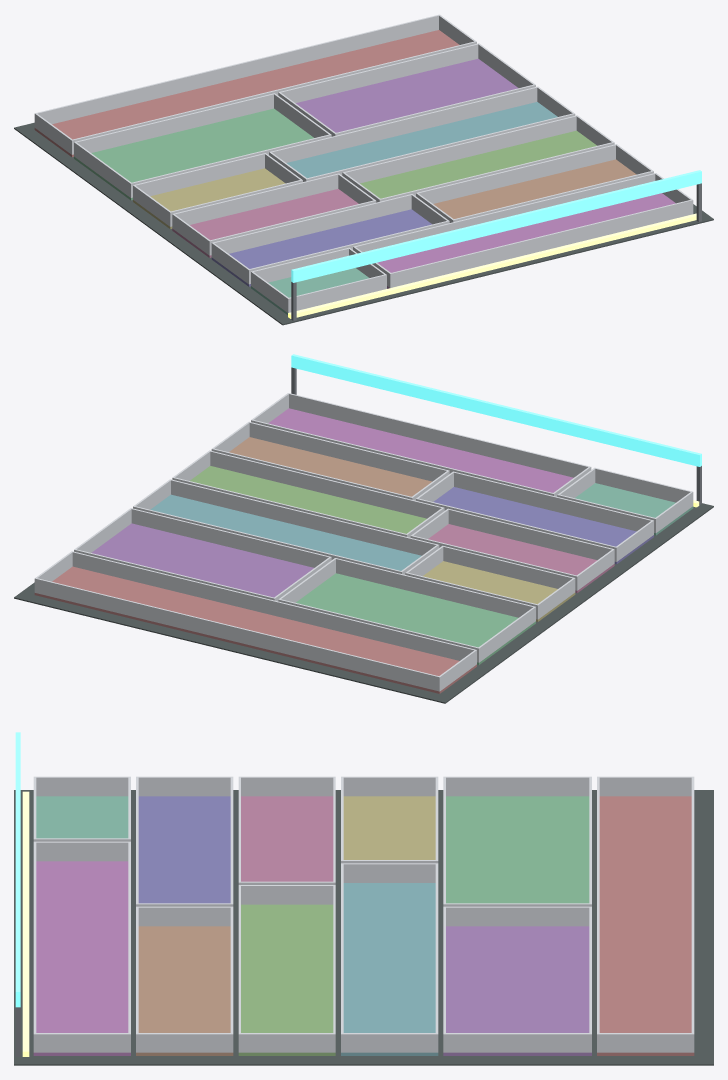
Rendered from hall-cleanroom.glb.
3 renders of one model, top to bottom at view 1: azimuth 30°, elevation 25°; view 2: azimuth 150°, elevation 25°; view 3: azimuth 270°, elevation 25°, orthographic. The views are drawn at different scales.
Visible parts, largest first — view 1: Cleanroom Trades; view 2: Cleanroom Trades; view 3: Cleanroom Trades.
Boxes of the visible parts, x1=… form: Cleanroom Trades: x1=14, y1=14, x2=713, y2=325; Cleanroom Trades: x1=14, y1=354, x2=713, y2=703; Cleanroom Trades: x1=14, y1=732, x2=713, y2=1065.
Size of the model in its own units: 38 by 4.3 by 41.
